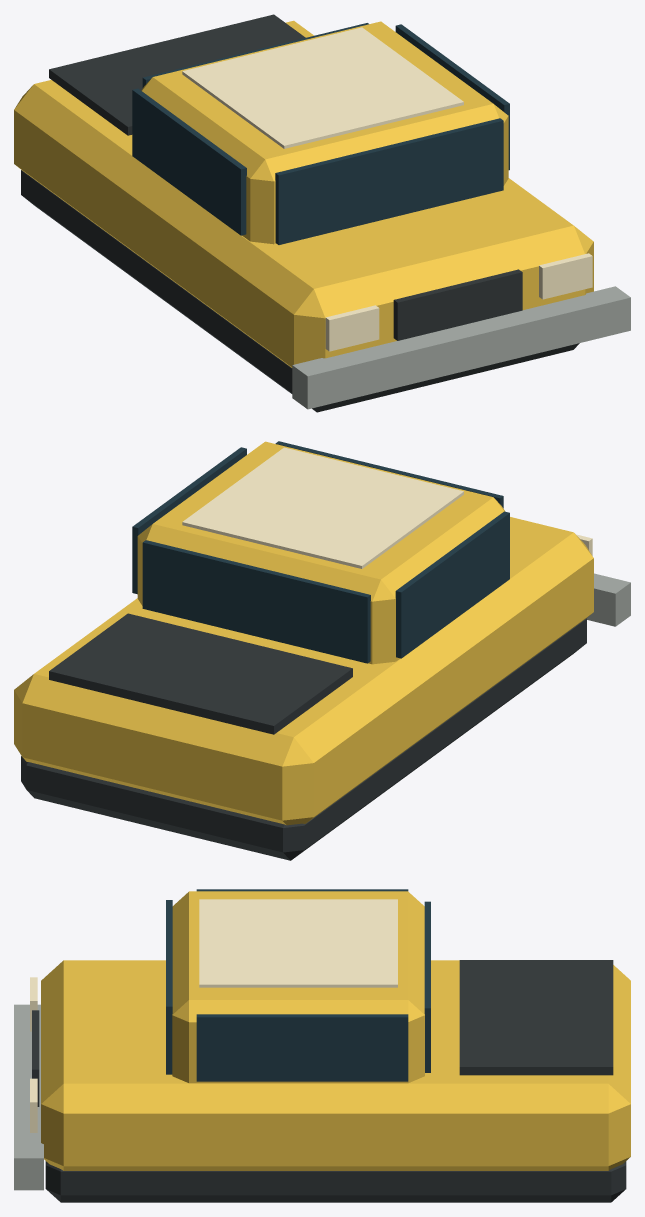
File: truck-3.glb
3 renders of one model, top to bottom at view 1: azimuth 30°, elevation 25°; view 2: azimuth 150°, elevation 25°; view 3: azimuth 270°, elevation 25°, orthographic. The views are drawn at different scales.
Parts seen in each view (by area): view 1: Optimized truck-3; view 2: Optimized truck-3; view 3: Optimized truck-3.
Boxes of the visible parts, x1,y1,x2,y2 form: Optimized truck-3: [14, 14, 630, 412]; Optimized truck-3: [14, 441, 630, 860]; Optimized truck-3: [14, 889, 630, 1202].
Bounding box in the file's own units: 1.94 × 1.18 × 3.3.
